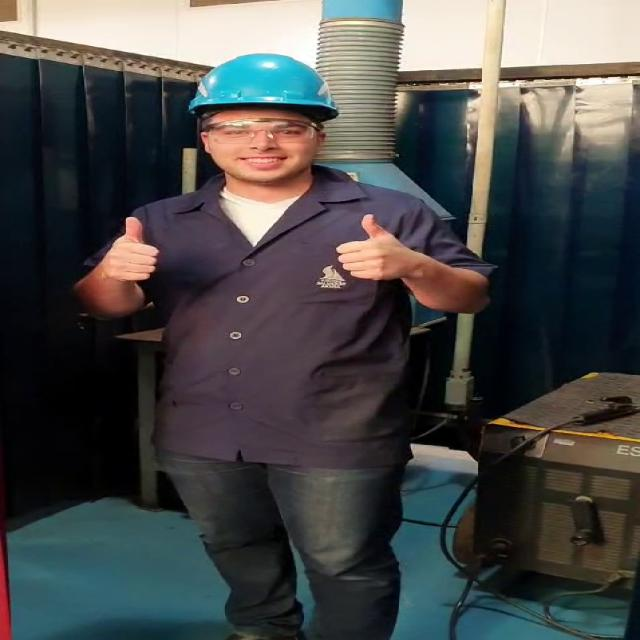oculos-epi: (205, 118, 317, 143)
